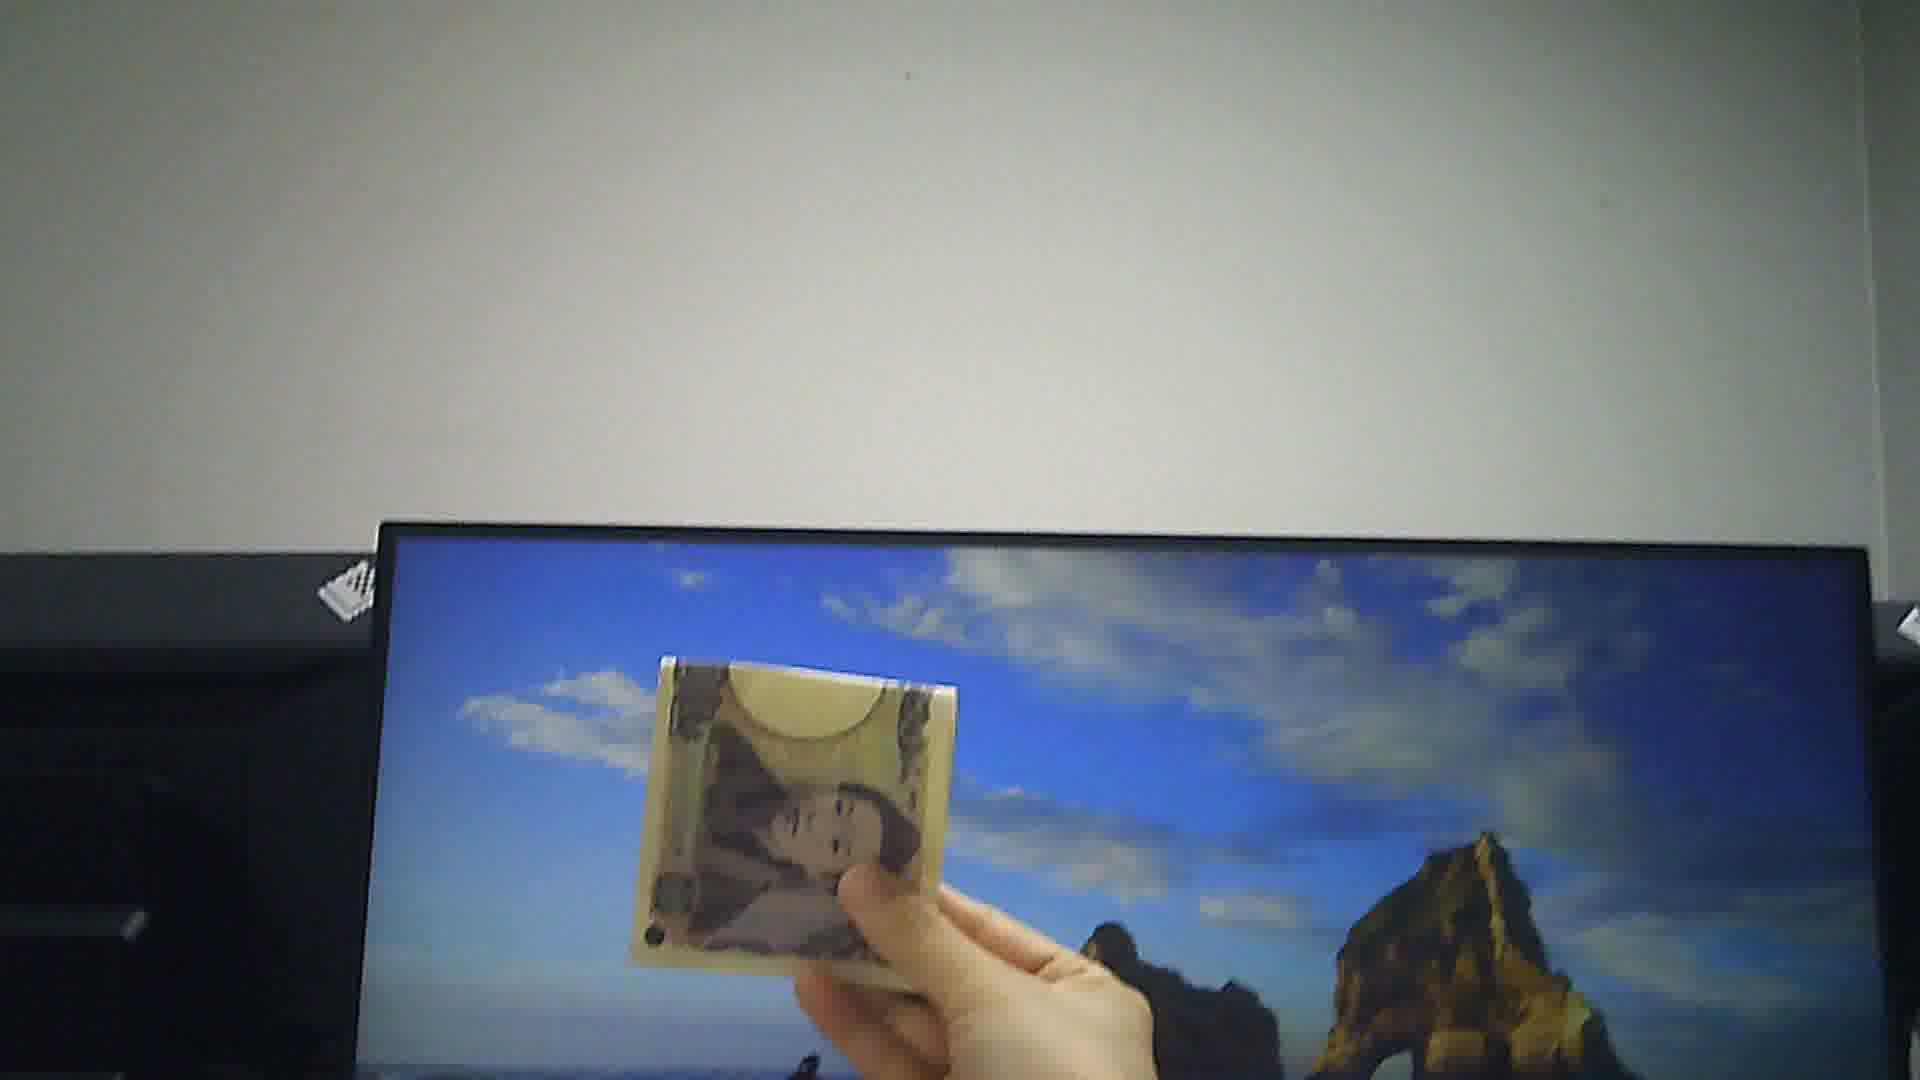5,000 Yen: (629, 646, 953, 986)
